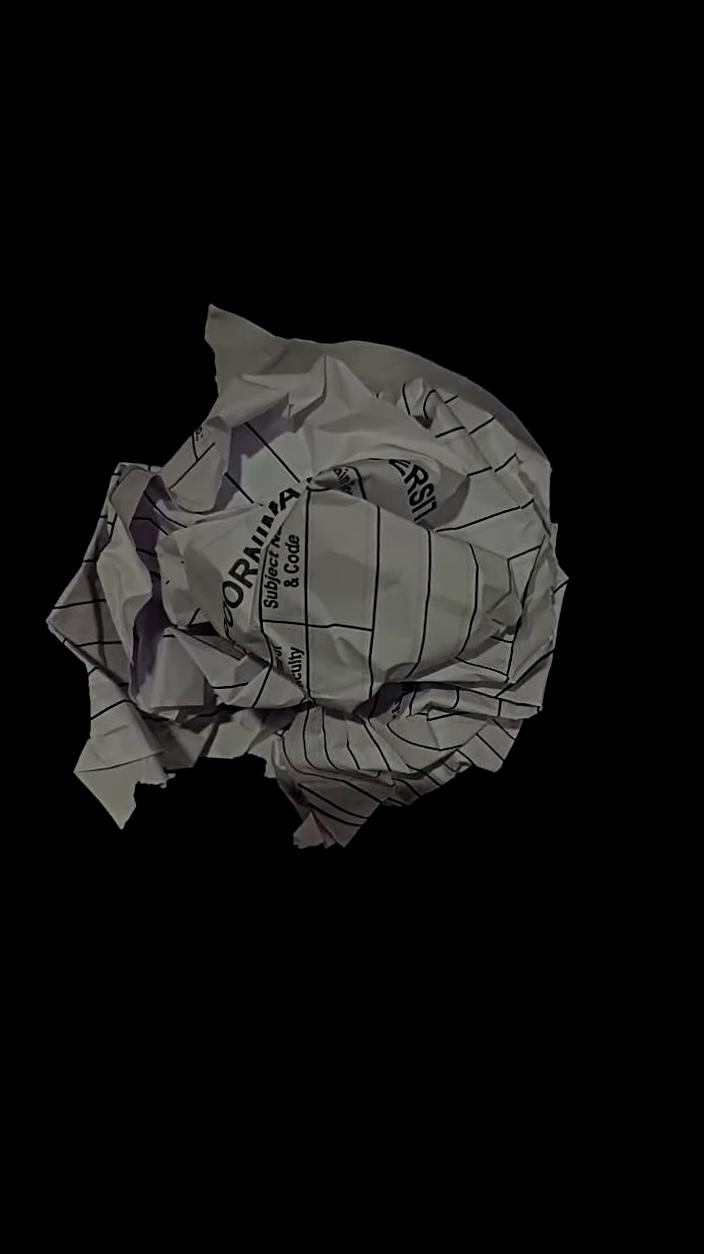PaperBall: (49, 309, 566, 845)
